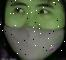with_mask: (2, 2, 66, 60)
